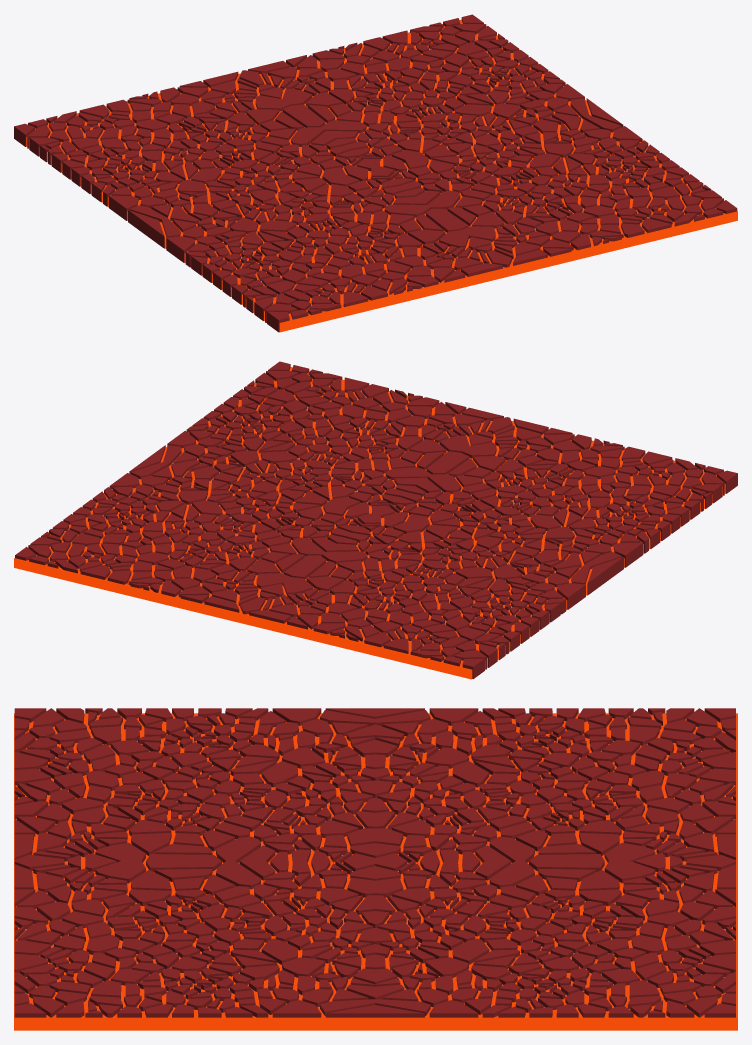
File: just_lava.glb
The picture shows the model from 3 angles, top to bottom: view 1: azimuth 30°, elevation 25°; view 2: azimuth 150°, elevation 25°; view 3: azimuth 270°, elevation 25°; orthographic projection. The views are drawn at different scales.
Visible parts, largest first — view 1: Object_3, Object_2; view 2: Object_3, Object_2; view 3: Object_3, Object_2.
Boxes of the visible parts, x1=… form: Object_3: x1=14, y1=14, x2=737, y2=332; Object_2: x1=26, y1=19, x2=737, y2=332; Object_3: x1=15, y1=361, x2=737, y2=679; Object_2: x1=14, y1=367, x2=725, y2=679; Object_3: x1=14, y1=708, x2=735, y2=1017; Object_2: x1=14, y1=713, x2=737, y2=1030.
Size of the model in its own units: 621 by 16 by 623.
